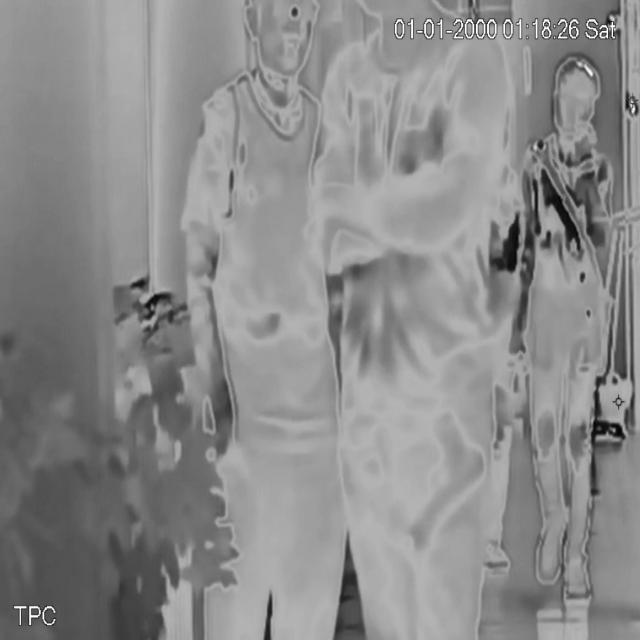Weapon: (406, 408, 490, 557)
